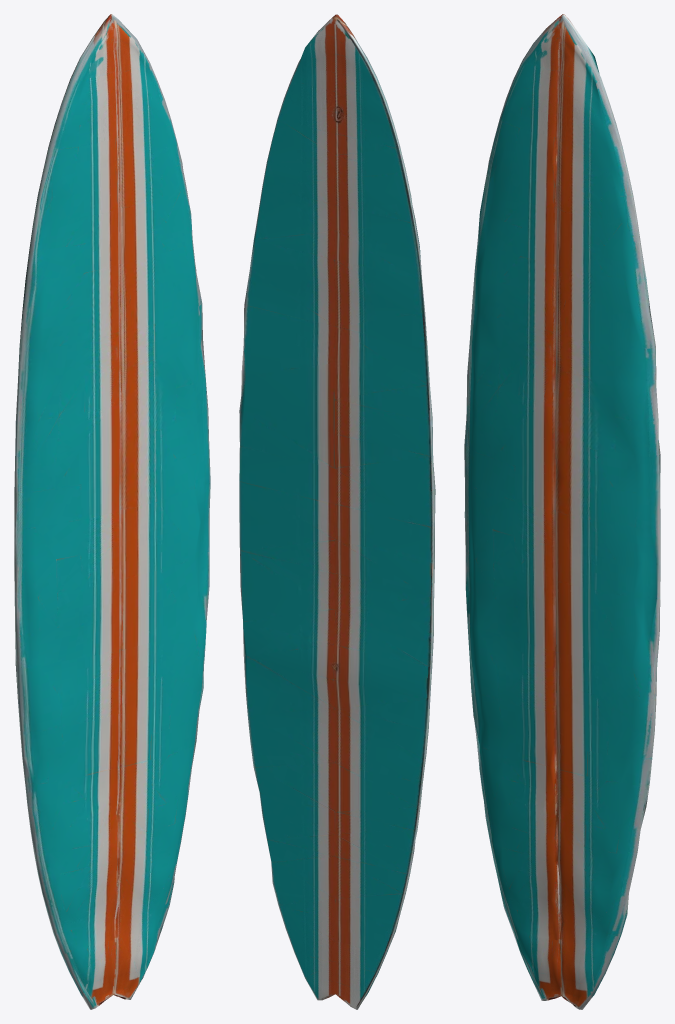
Rendered from surfboard.glb.
3 renders of one model, left to right at view 1: azimuth 30°, elevation 25°; view 2: azimuth 150°, elevation 25°; view 3: azimuth 330°, elevation 25°, orthographic.
Size of the model in its own units: 0.1948 by 0.9502 by 0.0225.
Materials: 1 (1 with a texture image).
